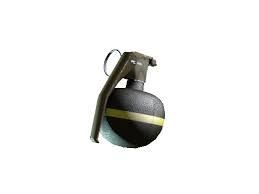bomb: (91, 48, 167, 151)
